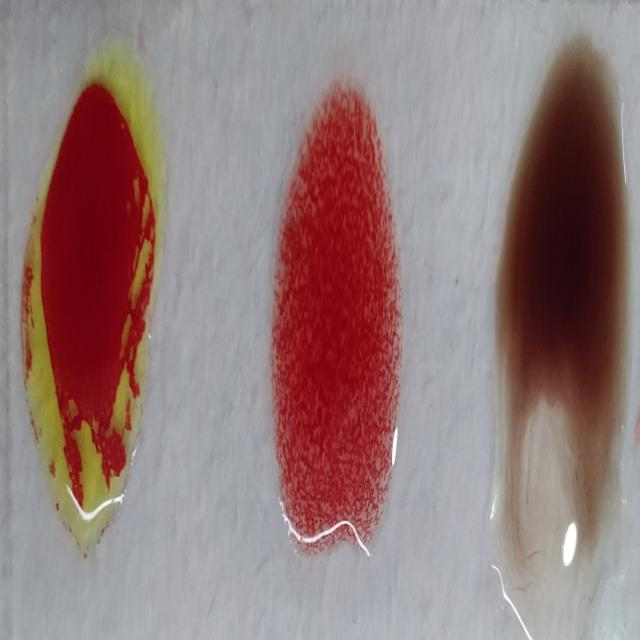B: (26, 16, 166, 552)
D: (278, 90, 398, 572)
